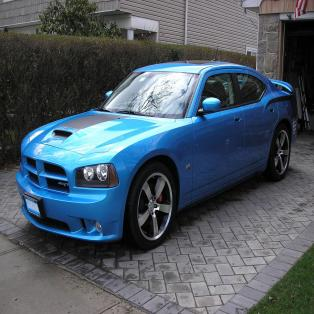Auto: (18, 64, 294, 248)
